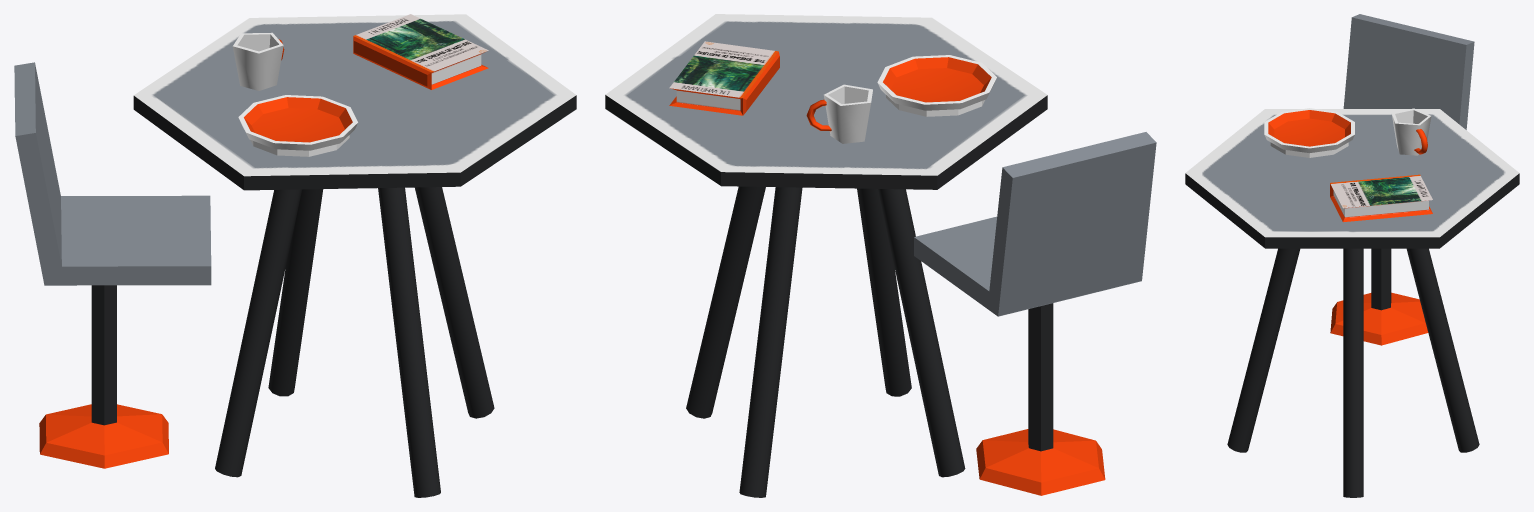
The model's file is table set.fbx.
3 renders of one model, left to right at view 1: azimuth 30°, elevation 25°; view 2: azimuth 150°, elevation 25°; view 3: azimuth 270°, elevation 25°, orthographic. The views are drawn at different scales.
Visible parts, largest first — view 1: table, polySurface2, pCube3, pCylinder5, pTorus2; view 2: table, polySurface2, pCube3, pCylinder5, pTorus2; view 3: table, polySurface2, pCube3, pCylinder5, pTorus2.
Boxes of the visible parts, <box> form: table: <box>133,14,576,497</box>; polySurface2: <box>14,62,211,468</box>; pCube3: <box>353,14,488,89</box>; pCylinder5: <box>238,95,357,156</box>; pTorus2: <box>232,32,284,90</box>; table: <box>605,14,1047,497</box>; polySurface2: <box>914,132,1156,495</box>; pCube3: <box>669,41,779,115</box>; pCylinder5: <box>877,55,996,116</box>; pTorus2: <box>806,84,872,143</box>; table: <box>1185,109,1519,497</box>; polySurface2: <box>1330,14,1474,345</box>; pCube3: <box>1330,174,1432,222</box>; pCylinder5: <box>1264,108,1354,157</box>; pTorus2: <box>1391,108,1431,155</box>.
Bounding box in the file's own units: 0.0745 × 0.0555 × 0.0543.
